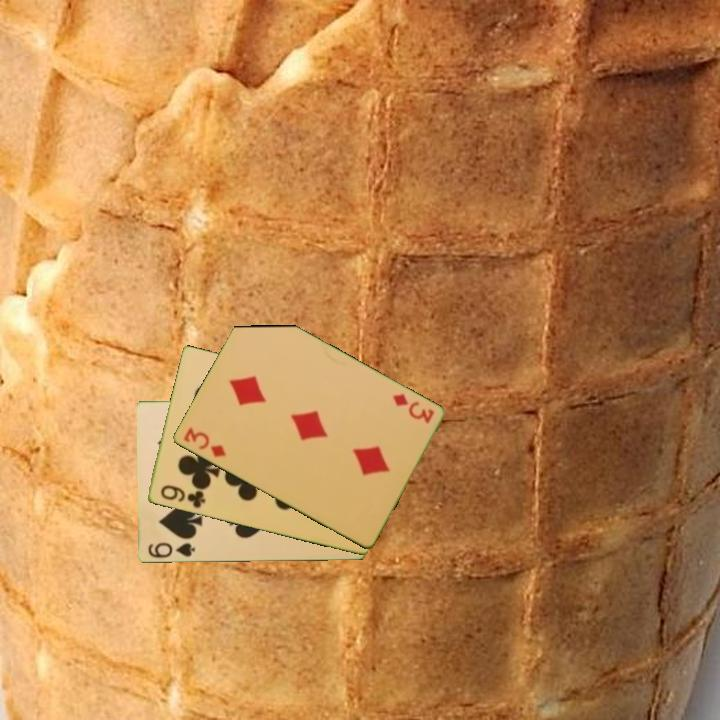3d: (388, 390, 437, 427), (180, 424, 229, 460)
6s: (144, 539, 197, 561)
9c: (157, 481, 208, 511)
